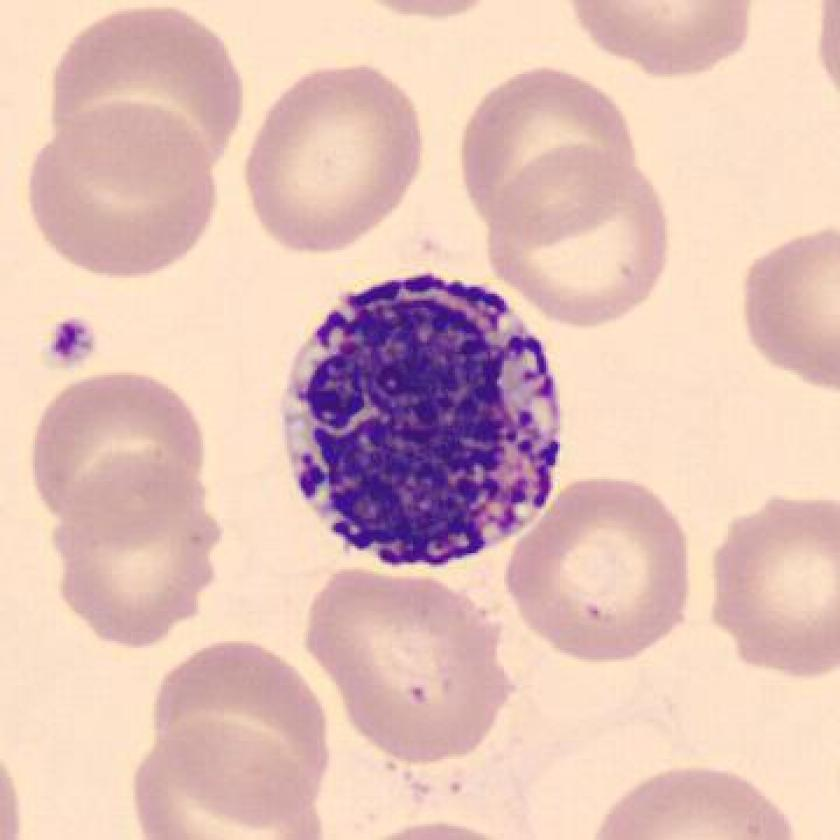basophil: (267, 258, 573, 577)
